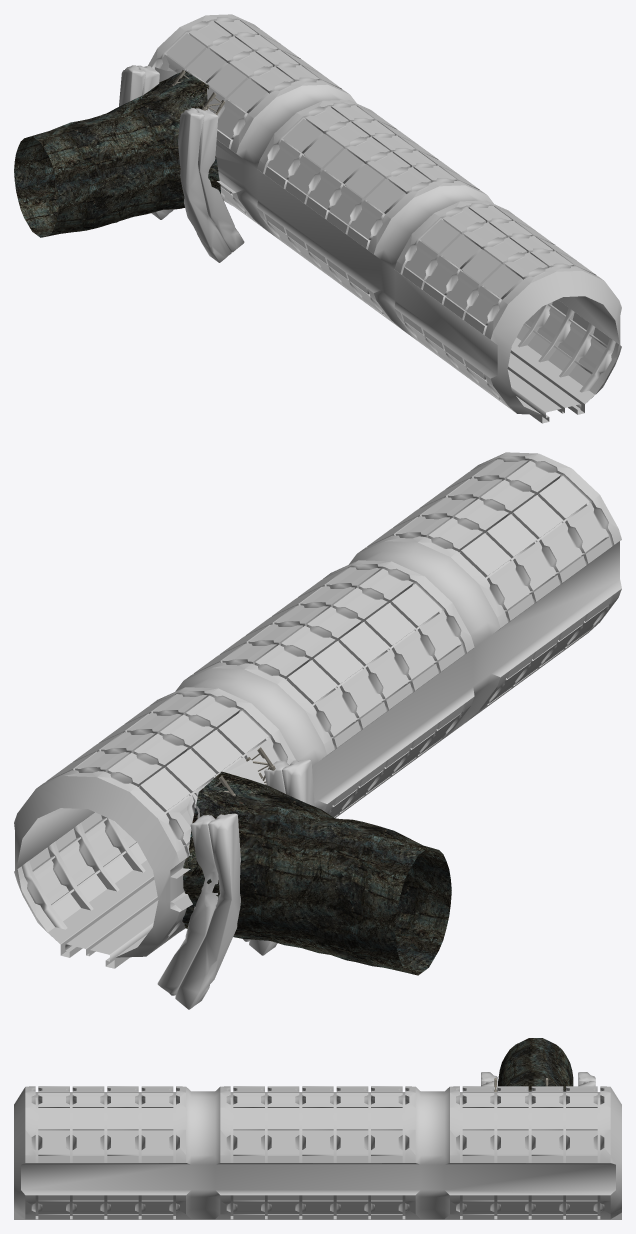
Rendered from traintunnel_flesher_hole.dae.
3 views of the same model, one above another, from view 1: azimuth 30°, elevation 25°; view 2: azimuth 150°, elevation 25°; view 3: azimuth 270°, elevation 25° (orthographic). The views are drawn at different scales.
Visible parts, largest first — view 1: polySurface110, straight, polySurface111; view 2: polySurface110, straight, polySurface111; view 3: polySurface110, straight, polySurface111.
Boxes of the visible parts, x1,y1,x2,y2 form: polySurface110: (148,14,621,423); straight: (14,71,223,237); polySurface111: (119,65,244,262); polySurface110: (14,452,621,968); straight: (182,771,451,975); polySurface111: (157,759,314,1009); polySurface110: (14,1086,621,1219); straight: (498,1038,573,1090); polySurface111: (481,1072,595,1089).
Bounding box in the file's own units: 11.76 × 7.07 × 26.5.
